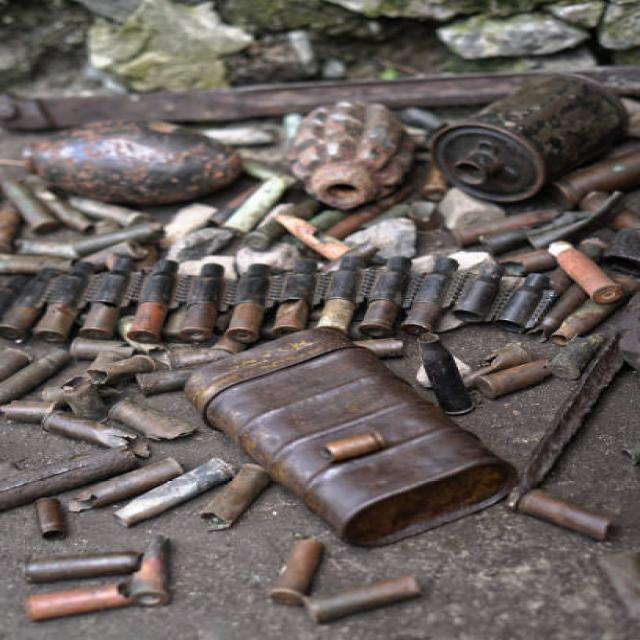grenade: (278, 103, 423, 208)
